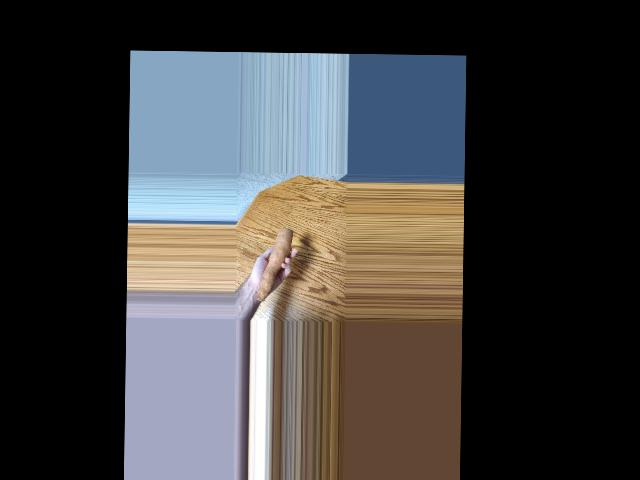sweet_potato: (254, 226, 294, 304)
